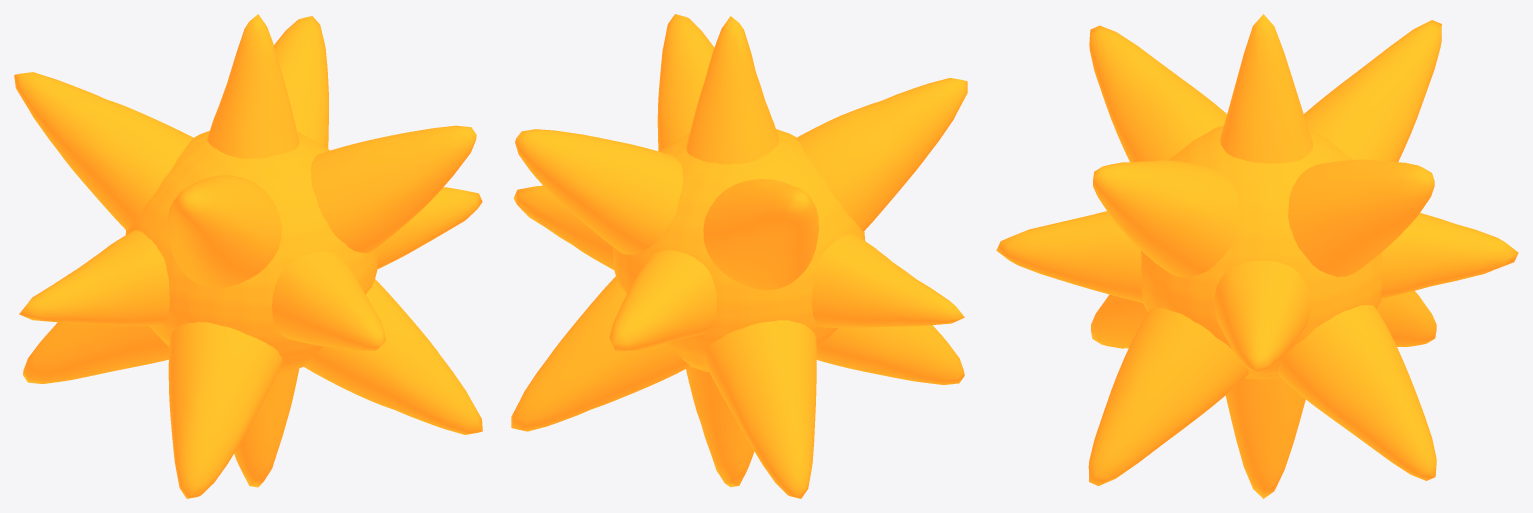
The model's file is PickupSun.fbx.
3 renders of one model, left to right at view 1: azimuth 30°, elevation 25°; view 2: azimuth 150°, elevation 25°; view 3: azimuth 270°, elevation 25°, orthographic. The views are drawn at different scales.
Parts seen in each view (by area): view 1: PickupSun; view 2: PickupSun; view 3: PickupSun.
Boxes of the visible parts, x1,y1,x2,y2 form: PickupSun: (14,14,482,498); PickupSun: (511,14,967,498); PickupSun: (996,14,1518,498).
Size of the model in its own units: 333 by 328 by 320.
